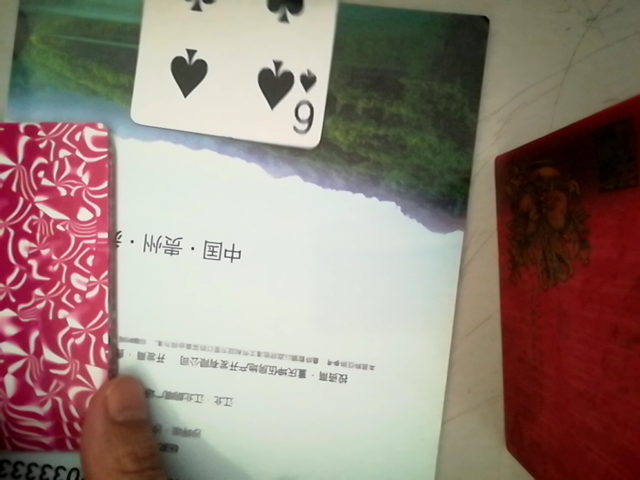ht 6: (127, 0, 350, 152)
